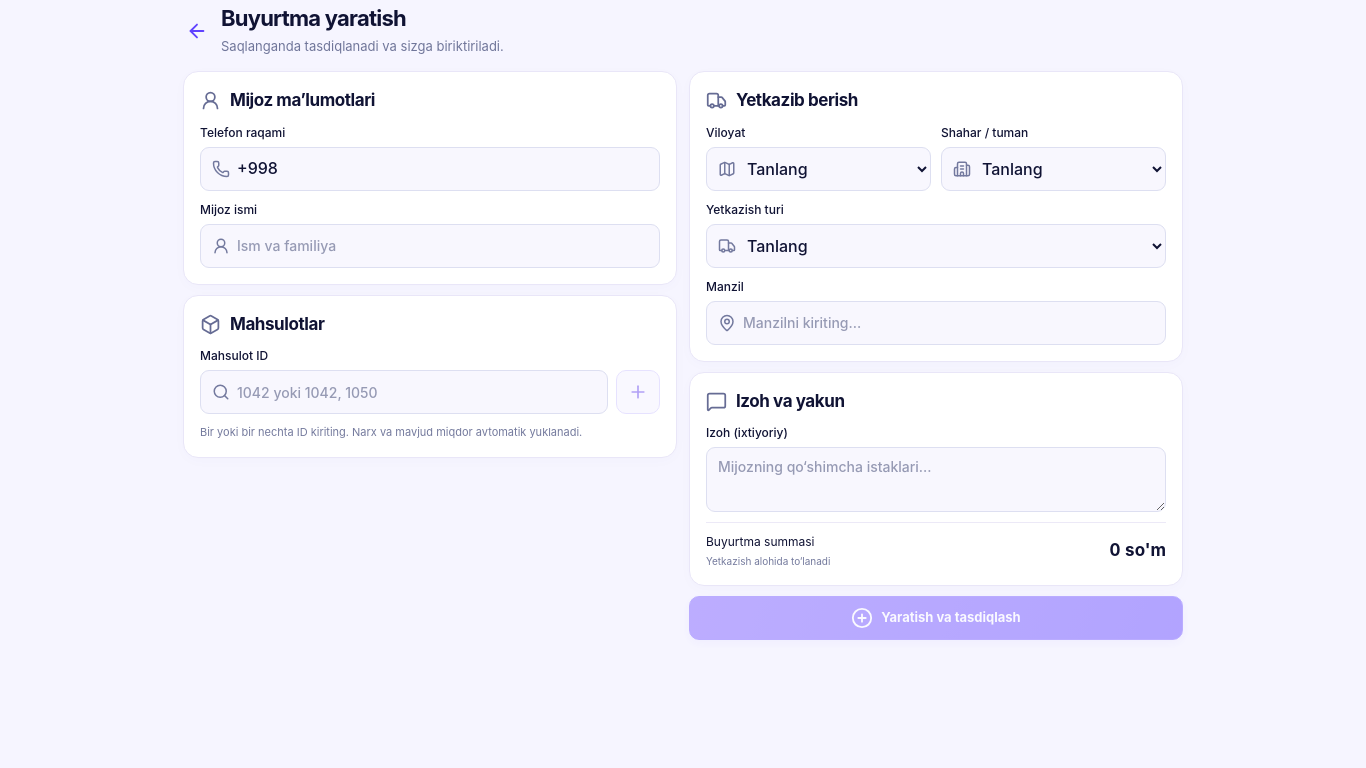
Test: operator order workspace › requires an explicit variant and sends its key with quantity
Later steps or results of the test are not shown.
Step 1. Replace the text in the field labelled "Telefon raqami" with "+998 90 123 45 67" → (430, 168), box [201,148,659,190]
Step 2. Type "Test Mijoz" into the field labelled "Mijoz ismi" → (430, 246), box [201,224,659,266]
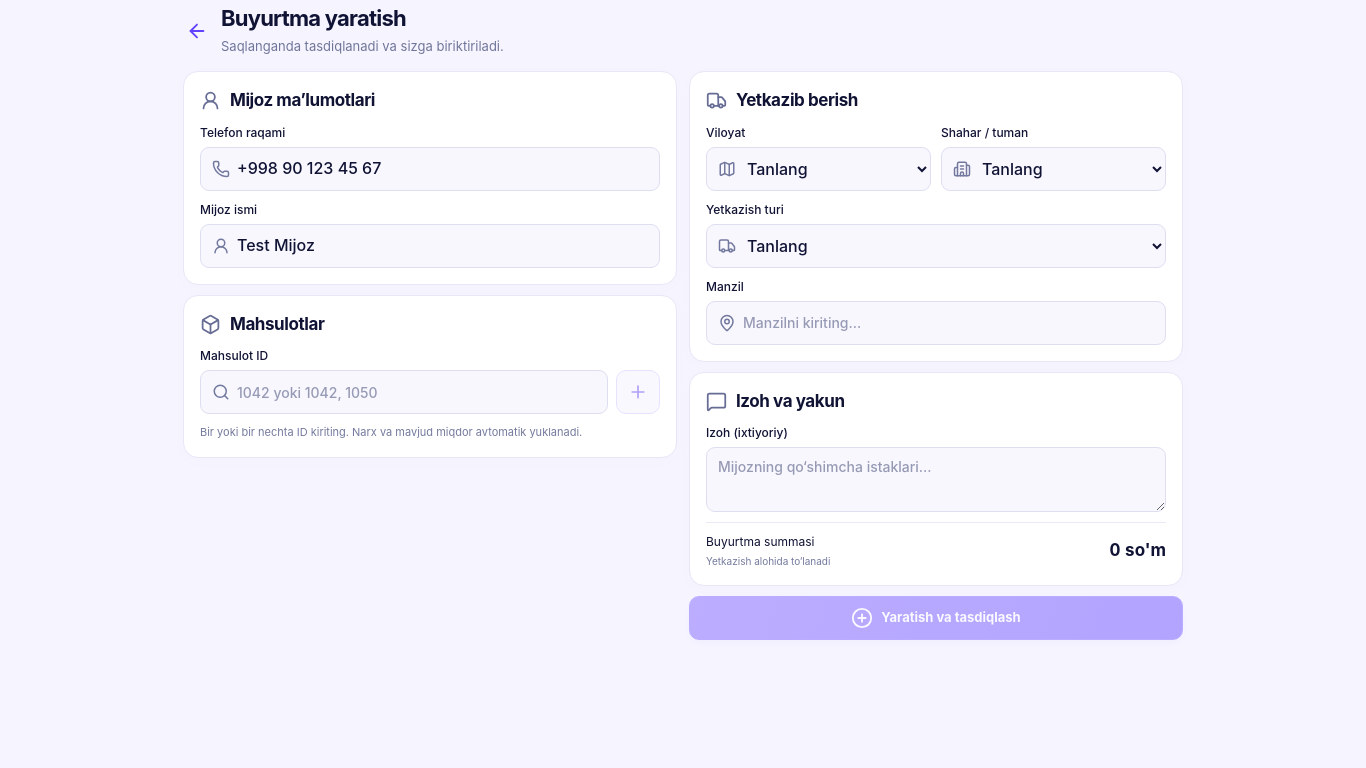
Step 3. Select "Toshkent" in the dropdown labelled "Viloyat" → (818, 168), box [707,148,930,190]
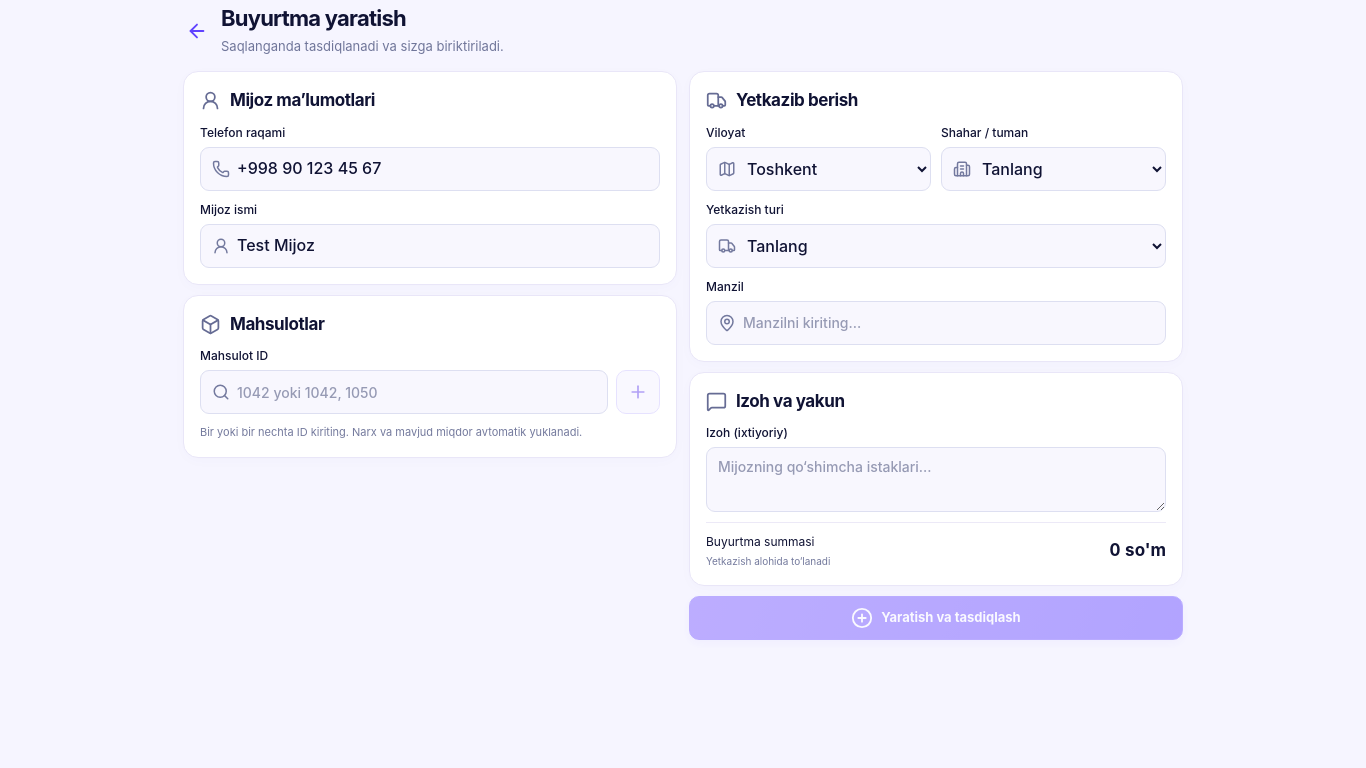
Step 4. Select "Chilonzor" in the dropdown labelled "Shahar / tuman" → (1054, 168), box [942,148,1165,190]
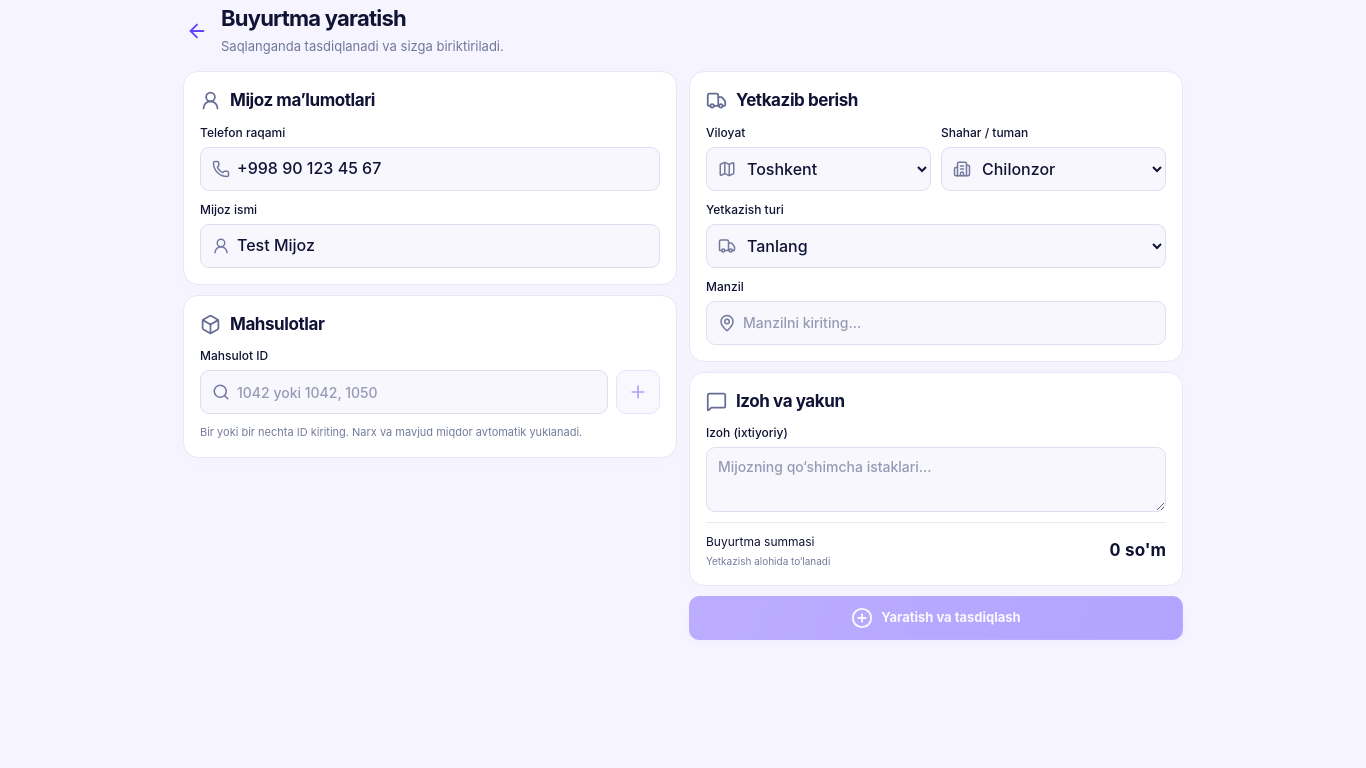
Step 5. Select "Beepost — markaz · 15 000 so'm" in the dropdown labelled "Yetkazish turi" → (936, 246), box [707,224,1165,266]
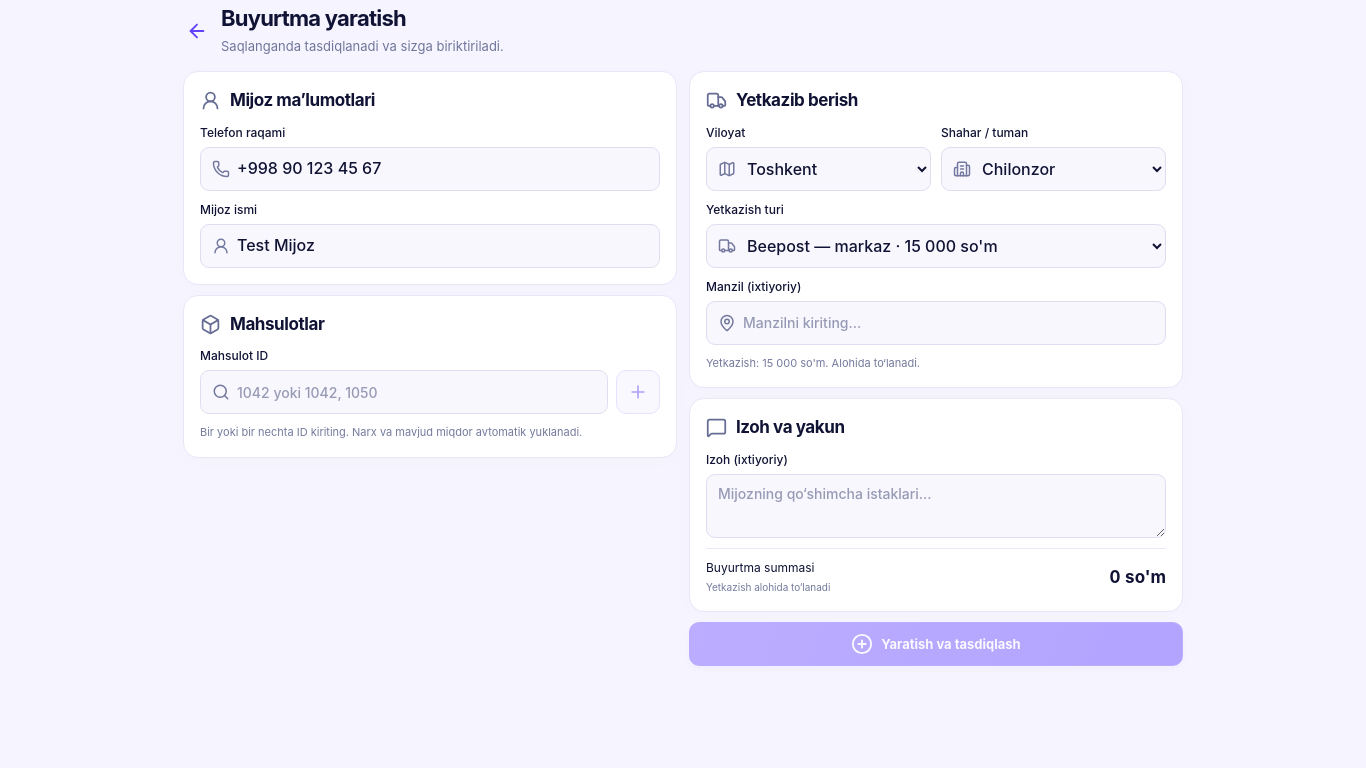
Step 6. Type "1042" into the field labelled "Mahsulot ID" → (404, 392), box [201,371,607,413]
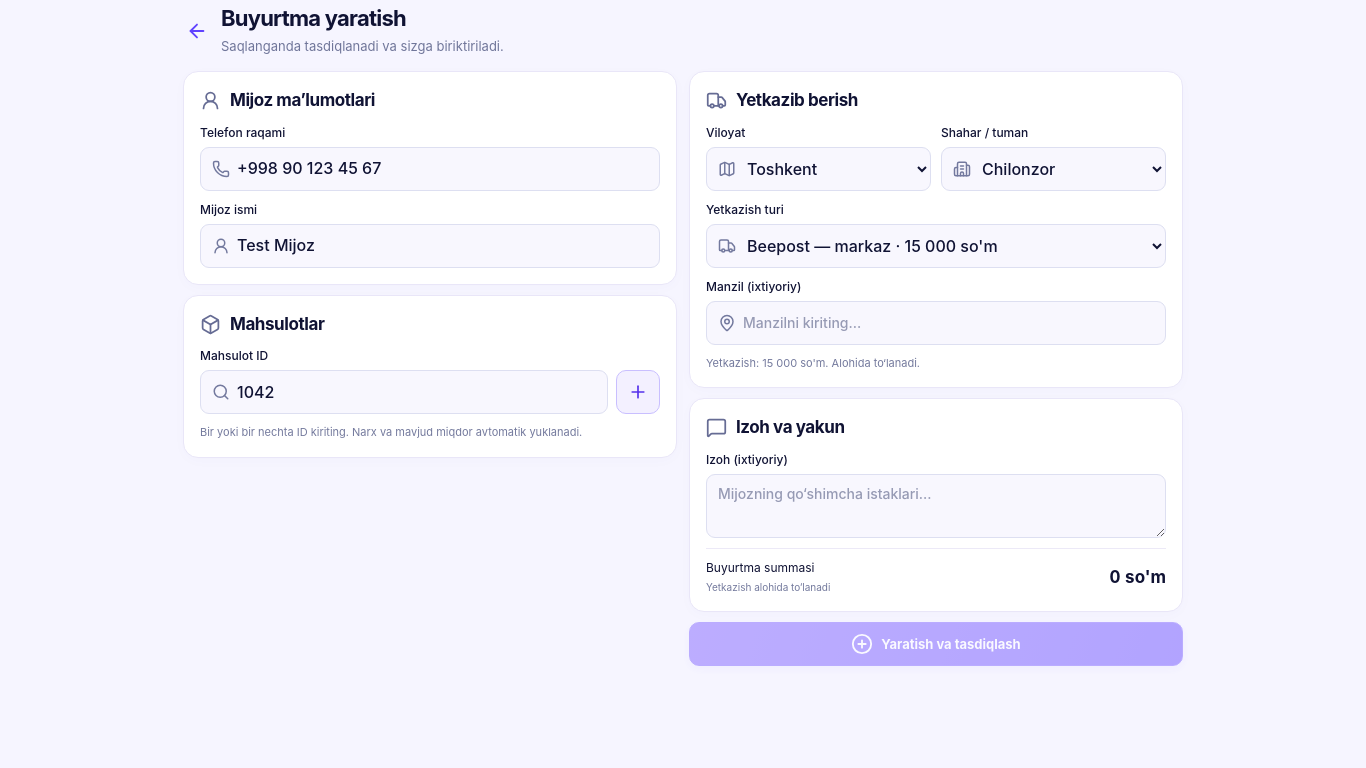
Step 7. Click the button named "Mahsulotlarni qo‘shish" → (638, 392), box [616,370,660,414]
(page scrolled)
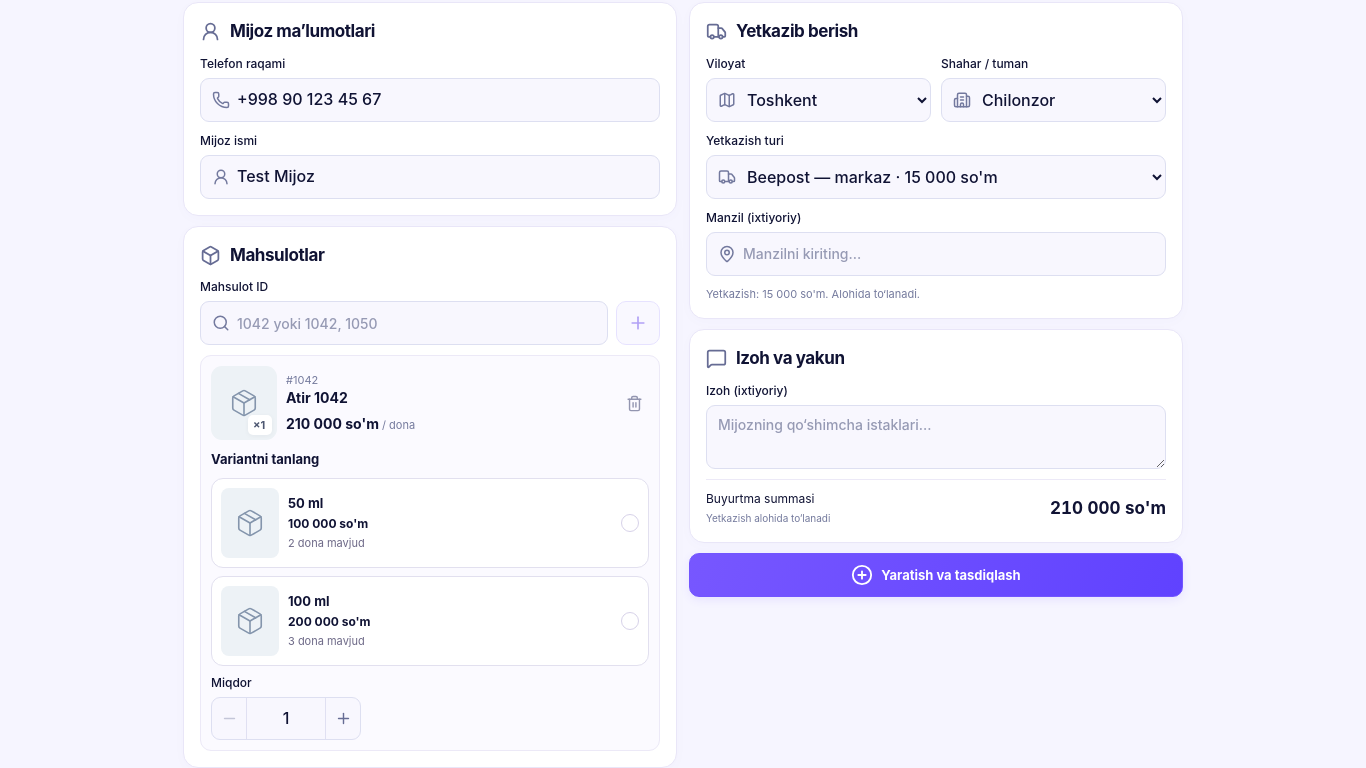
Check: the heading "Atir 1042" is shown, box [286,389,348,406]
